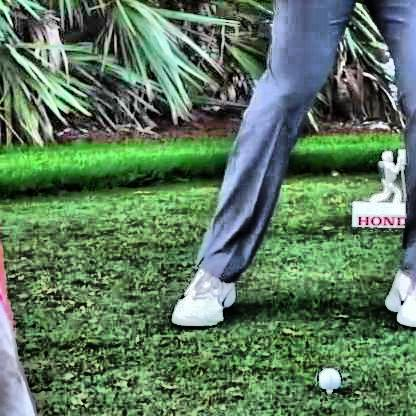golfball: (315, 365, 337, 389)
